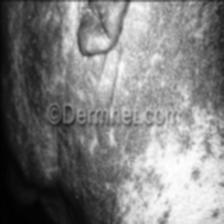Non-Cancerous Skin Condition: (0, 12, 100, 91), (134, 0, 216, 94), (136, 137, 224, 224)
